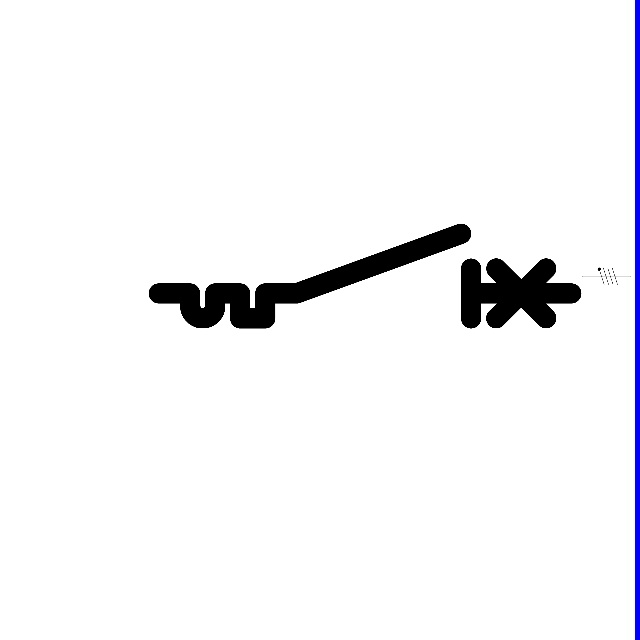interruptor_termomagnetico: (148, 223, 582, 329)
